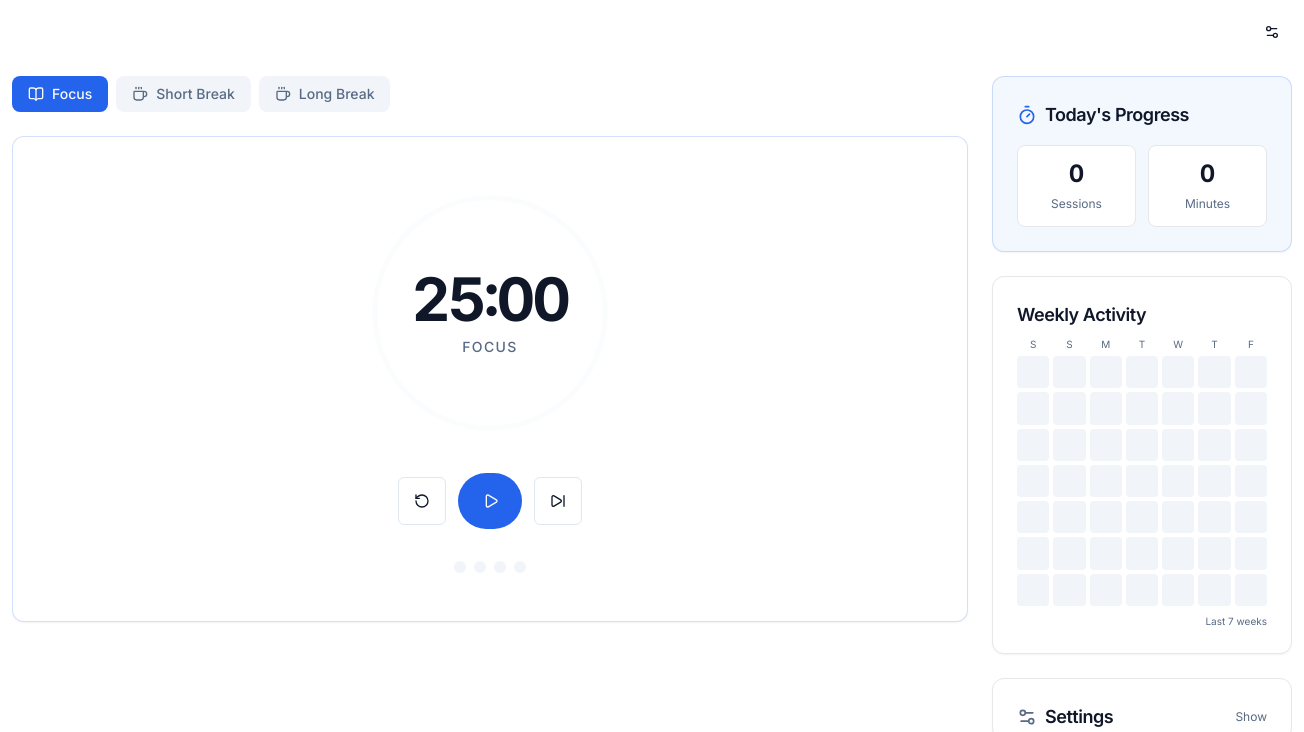
StudyTimer countdown › counts down while running
Click the button named "Start timer". click: (490, 501)
box: [458,473,522,529]
Wait 3000 ms
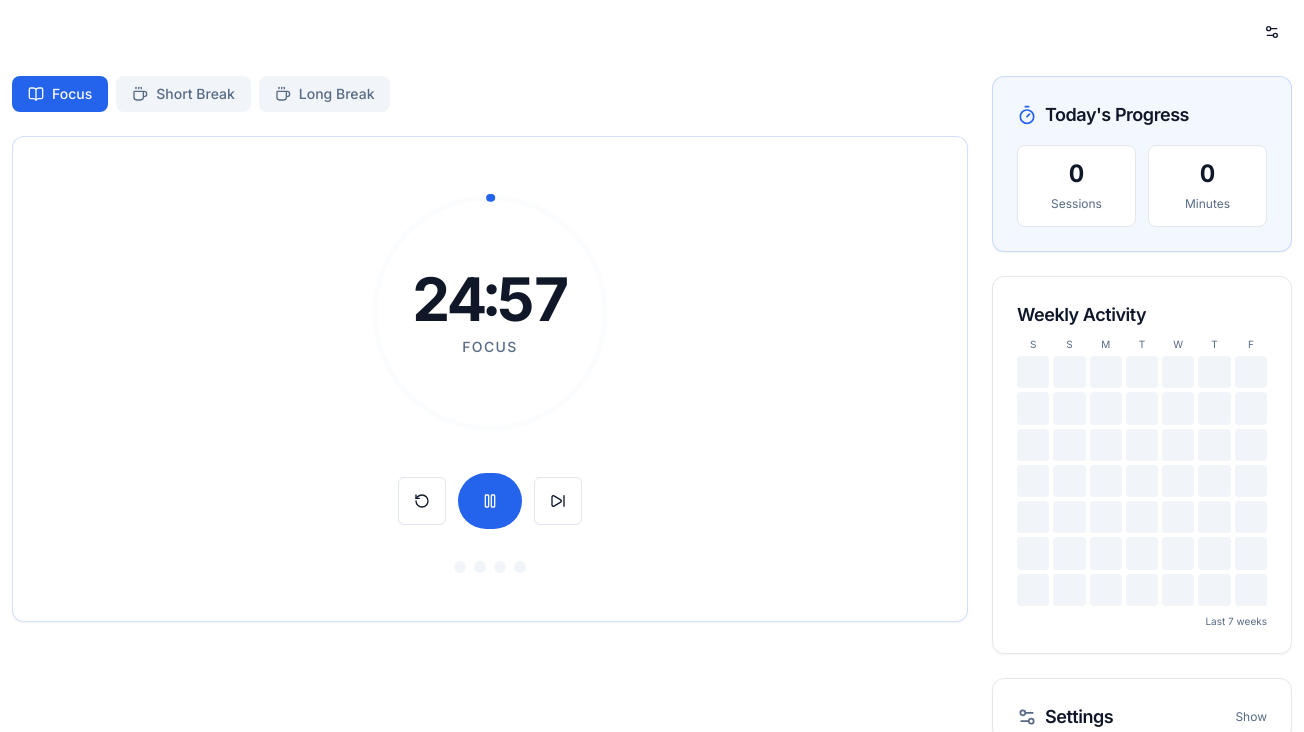
Check: the text "24:57" is shown, box [412,269,568,329]
